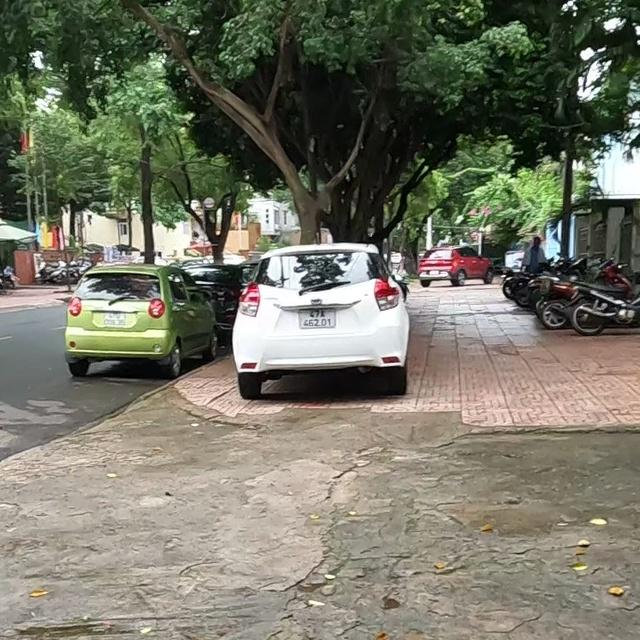license-plate: (298, 308, 335, 329)
